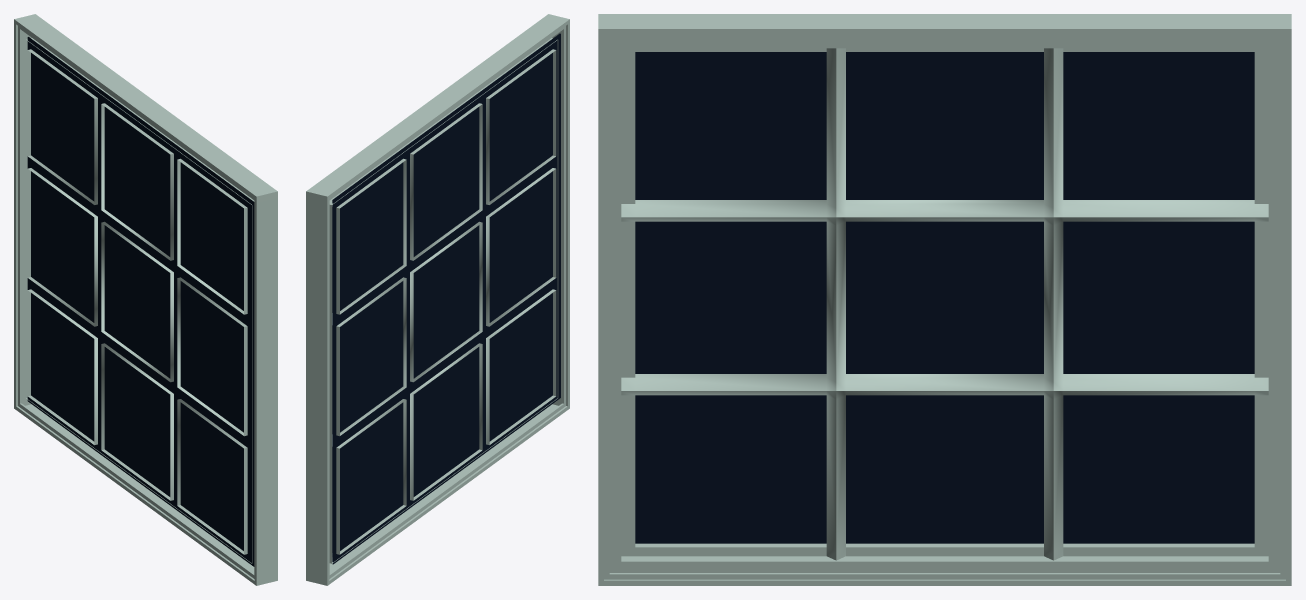
Rendered from Window.FBX.
3 views of the same model, side by side, from view 1: azimuth 30°, elevation 25°; view 2: azimuth 150°, elevation 25°; view 3: azimuth 270°, elevation 25° (orthographic). The views are drawn at different scales.
Parts seen in each view (by area): view 1: Window; view 2: Window; view 3: Window.
Boxes of the visible parts, left/top/right/bottom form: Window: left=14, top=14, right=277, bottom=585; Window: left=306, top=14, right=569, bottom=585; Window: left=598, top=14, right=1291, bottom=585.
Bounding box in the file's own units: 3.63 × 63.08 × 71.18.
